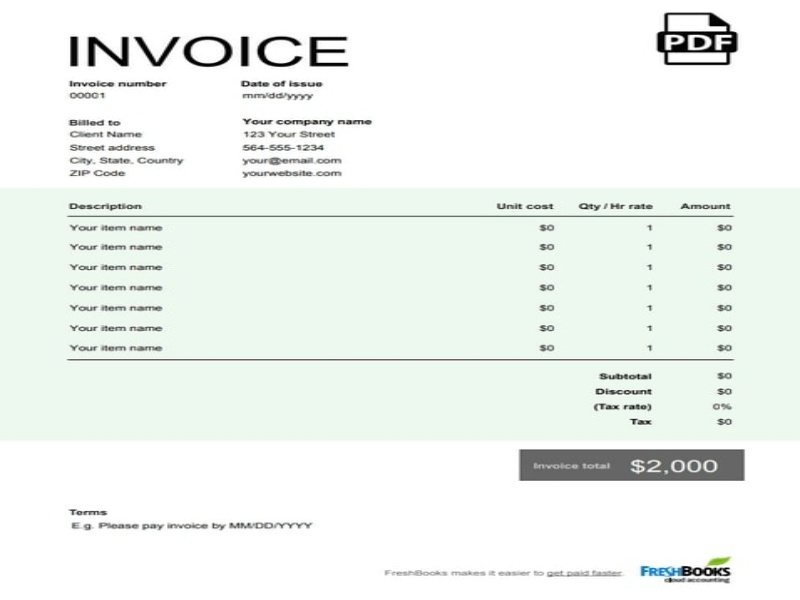invoice_detail: (240, 113, 374, 180), (65, 115, 187, 182)
table: (63, 188, 734, 361)
total: (519, 450, 744, 481)
